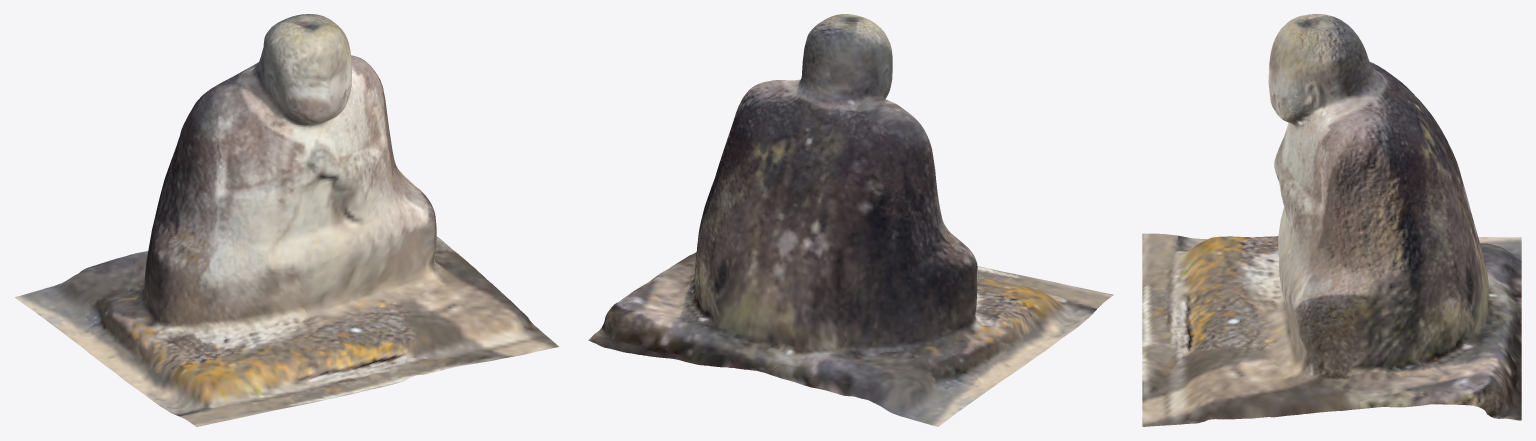
File: sculpture_650b5892.glb
The picture shows the model from 3 angles, left to right: view 1: azimuth 30°, elevation 25°; view 2: azimuth 150°, elevation 25°; view 3: azimuth 270°, elevation 25°; orthographic projection. The views are drawn at different scales.
Parts seen in each view (by area): view 1: Object_2; view 2: Object_2; view 3: Object_2.
Boxes of the visible parts, x1,y1,x2,y2 form: Object_2: (14, 14, 558, 426); Object_2: (588, 14, 1113, 426); Object_2: (1142, 14, 1521, 426).
Bounding box in the file's own units: 0.882 × 0.7089 × 0.7668.
1 material, 1 textured.
